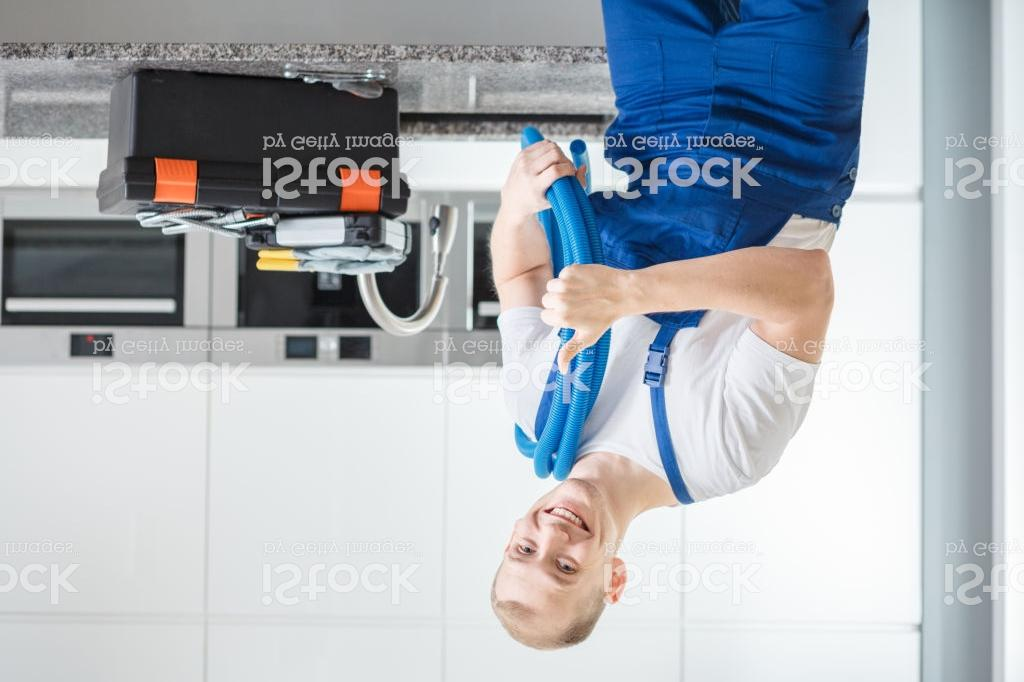thumbsdown: (537, 260, 612, 376)
